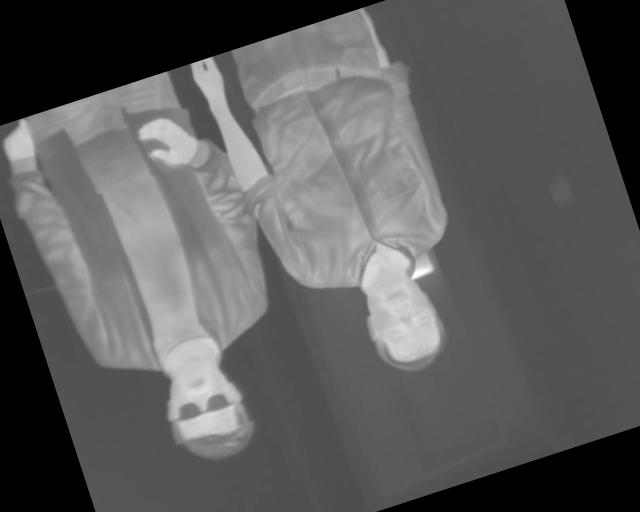face: (150, 345, 262, 474), (349, 258, 455, 384)
